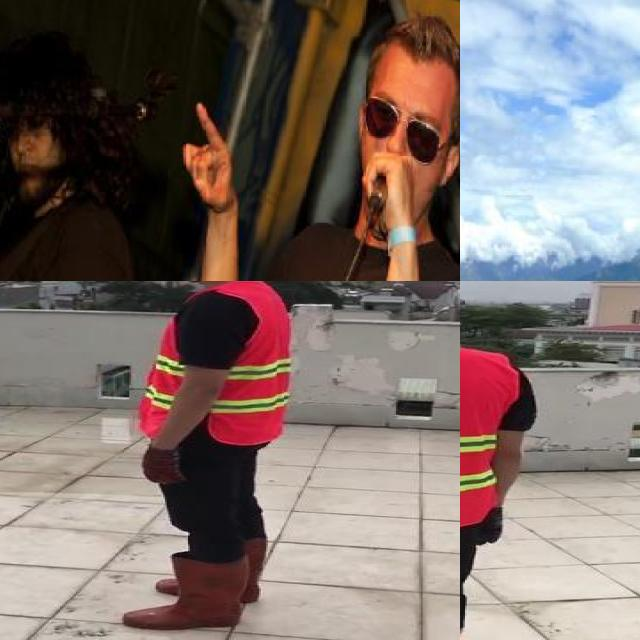boots: (124, 557, 243, 629), (158, 535, 266, 604)
face_nomask: (0, 118, 48, 184)
glasses: (359, 75, 448, 155)
hand_glove: (140, 448, 186, 486), (474, 507, 504, 544)
hand_noglove: (178, 100, 240, 214), (356, 147, 419, 225)
head_nohelmet: (373, 0, 460, 69)
person: (166, 24, 460, 281), (105, 281, 306, 640), (0, 50, 146, 281), (460, 281, 550, 640)
vest: (128, 283, 290, 445), (460, 347, 513, 530)
